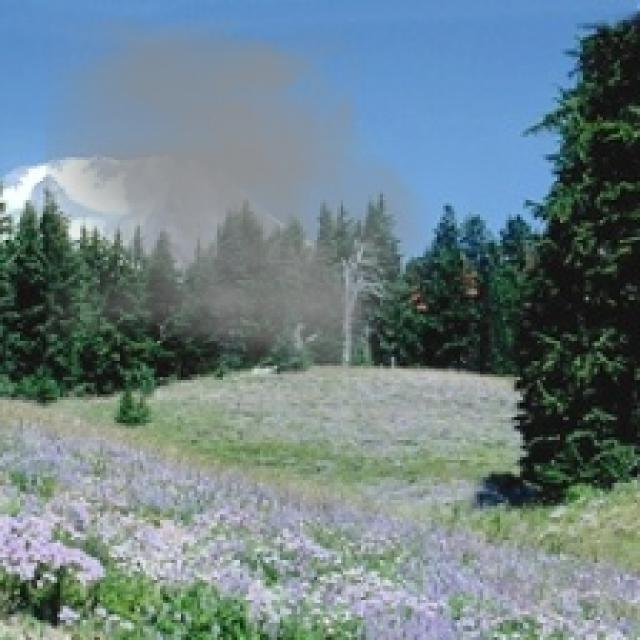Smoke: (46, 14, 448, 377)
